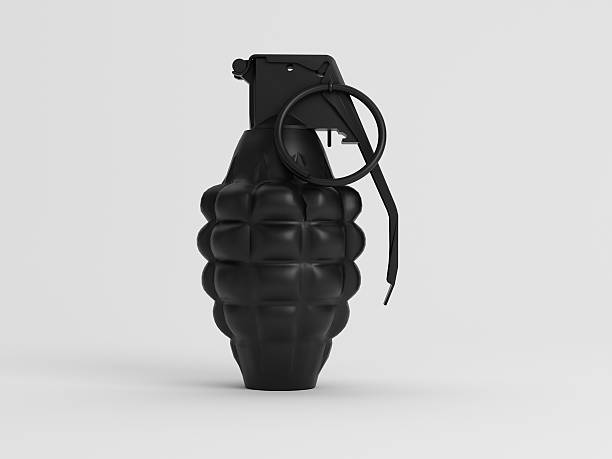e1: (199, 52, 402, 396)
